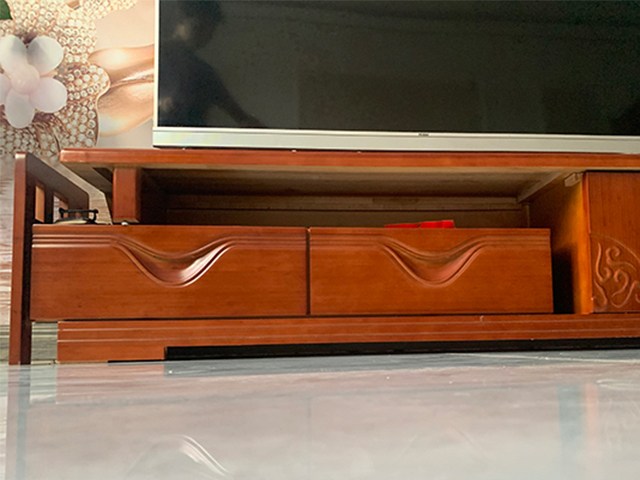cabinet: (7, 145, 639, 366)
